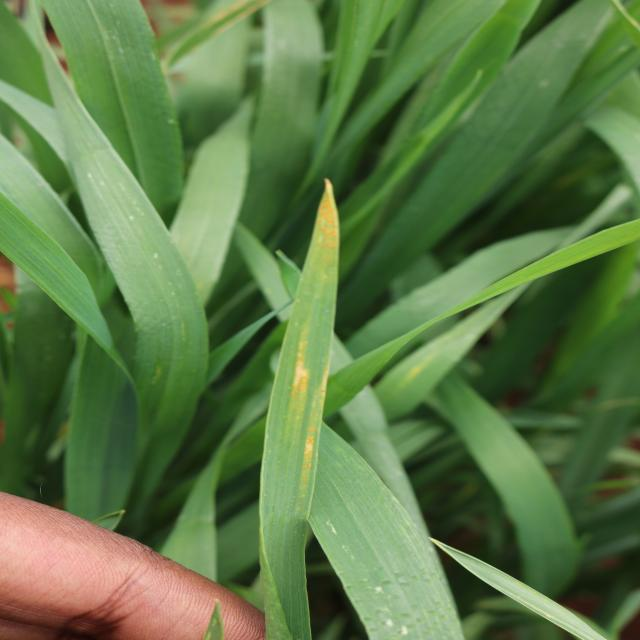Stripe Rust: (290, 326, 320, 420), (292, 423, 324, 481), (311, 193, 340, 255)
